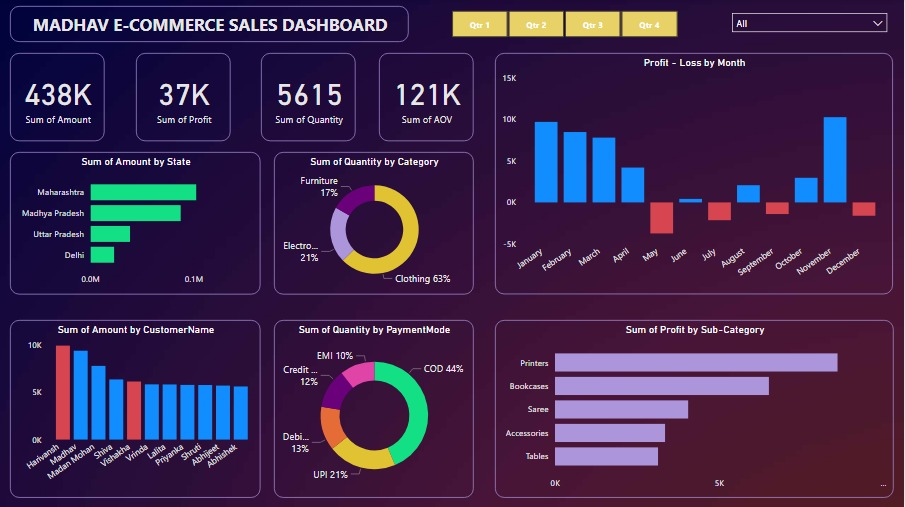

The page's visual inventory and layout, read from the dashboard file:
{"tool":"powerbi","page":{"name":"Page 1","canvas":[1280,720],"ordinal":0},"visuals":[{"type":"textbox","box":[13.9,9.9,565.4,50.8],"z":0},{"type":"columnChart","title":"Profit - Loss by Month","fields":{"Y":["Details.Profit"],"Category":["Orders.Order Date.Variation.Date Hierarchy.Month"]},"box":[701.3,77.2,564,341.7],"z":1000},{"type":"barChart","fields":{"Category":["Details.Sub-Category"],"Y":["Details.Profit"]},"box":[701.3,454.5,565.4,252.5],"z":2000},{"type":"donutChart","fields":{"Category":["Details.Category"],"Y":["Details.Quantity"]},"box":[388.5,217.1,282.7,201.7],"z":3000},{"type":"donutChart","fields":{"Y":["Details.Quantity"],"Category":["Details.PaymentMode"]},"box":[388.5,454.5,282.7,252.5],"z":4000},{"type":"card","fields":{"Values":["Details.Amount"]},"box":[13.9,77.2,134.5,124.9],"z":5000},{"type":"card","fields":{"Values":["Details.Profit"]},"box":[192.2,77.2,134.5,124.9],"z":6000},{"type":"card","fields":{"Values":["Details.Quantity"]},"box":[369.3,77.2,134.5,124.9],"z":7000},{"type":"card","fields":{"Values":["Details.AOV"]},"box":[536.7,77.2,134.5,124.9],"z":8000},{"type":"barChart","fields":{"Category":["Orders.State"],"Y":["Details.Amount"]},"box":[13.9,217.1,355.4,201.7],"z":9000},{"type":"columnChart","fields":{"Category":["Orders.CustomerName"],"Y":["Details.Amount"]},"box":[13.9,454.5,355.4,252.5],"z":10000},{"type":"slicer","fields":{"Values":["Orders.Order Date.Variation.Date Hierarchy.Quarter"]},"box":[615.1,9.9,368.5,51],"z":11000},{"type":"slicer","fields":{"Values":["Orders.State"]},"box":[1027.6,9.9,239.5,51],"z":12000}]}

Visuals, with their boxes in screenshot pixels (x1, y1, x2, y2), scaled from the page's 1280x720 canvas onto the 905x507 screenshot:
textbox: detection(10, 7, 410, 43)
"Profit - Loss by Month" columnChart: detection(496, 54, 895, 295)
barChart - Details.Sub-Category x Details.Profit: detection(496, 320, 896, 498)
donutChart - Details.Category x Details.Quantity: detection(275, 153, 475, 295)
donutChart - Details.Quantity x Details.PaymentMode: detection(275, 320, 475, 498)
card - Details.Amount: detection(10, 54, 105, 142)
card - Details.Profit: detection(136, 54, 231, 142)
card - Details.Quantity: detection(261, 54, 356, 142)
card - Details.AOV: detection(379, 54, 475, 142)
barChart - Orders.State x Details.Amount: detection(10, 153, 261, 295)
columnChart - Orders.CustomerName x Details.Amount: detection(10, 320, 261, 498)
slicer - Orders.Order Date.Variation.Date Hierarchy.Quarter: detection(435, 7, 695, 43)
slicer - Orders.State: detection(727, 7, 896, 43)
